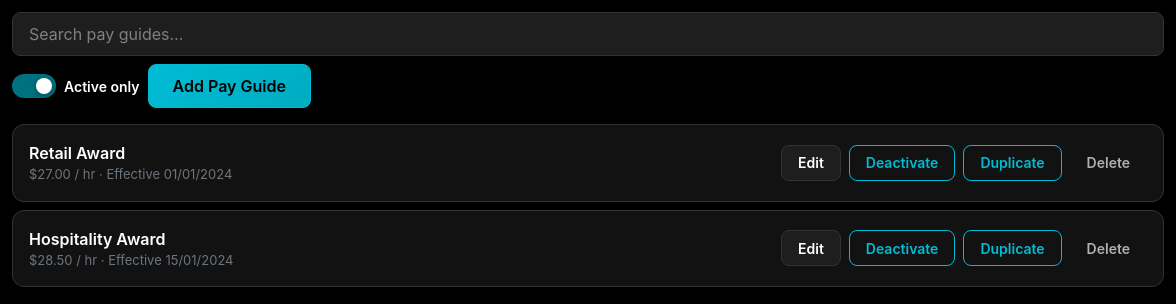
PayGuidesList › filters pay guides based on the search query
Expected: the text "Retail Award" is shown, [29,143,125,163]
Expected: the text "Hospitality Award" is shown, [29,228,166,248]
Type "Hosp" into the field with placeholder "Search pay guides…".
click(588, 34); type("Hosp")  # box [12,12,1164,56]
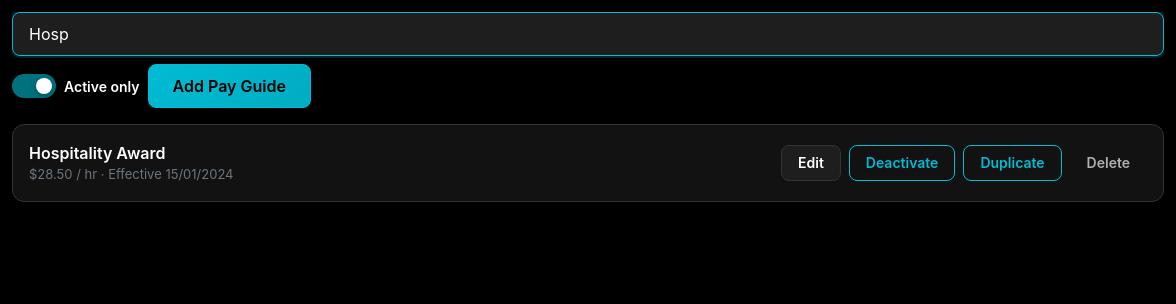
Expected: the text "Hospitality Award" is shown, [29,143,166,163]
Now the text "Retail Award" is gone
